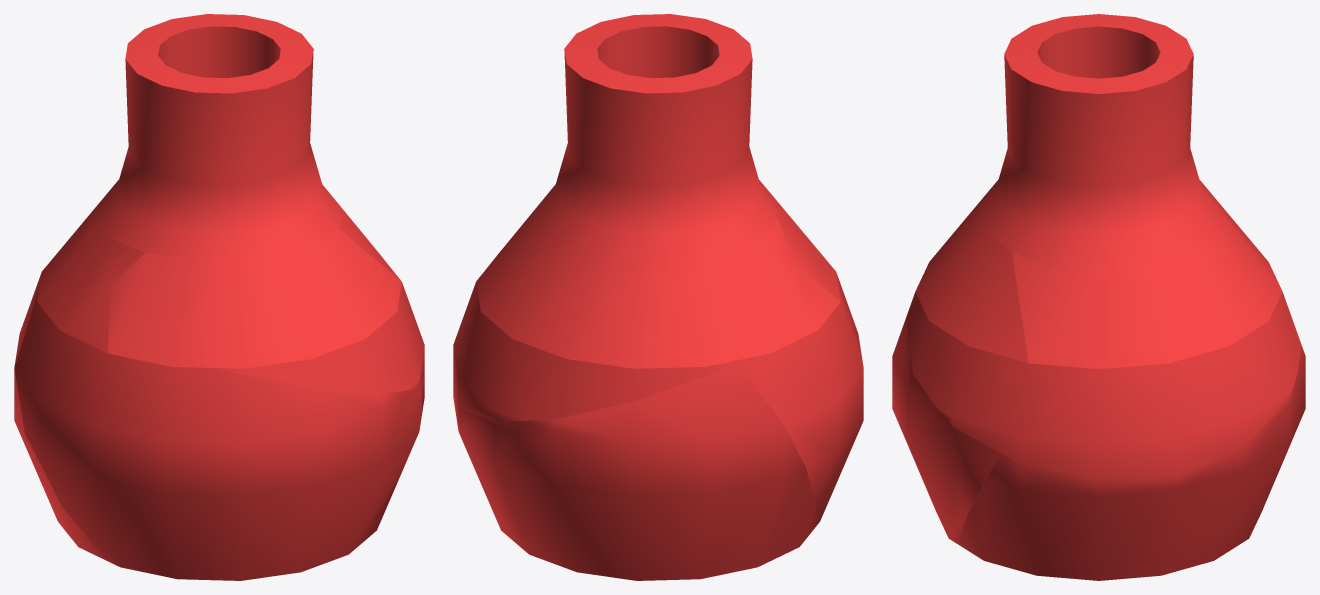
Rendered from DES_Vase.fbx.
3 views of the same model, side by side, from view 1: azimuth 30°, elevation 25°; view 2: azimuth 150°, elevation 25°; view 3: azimuth 270°, elevation 25° (orthographic).
Visible parts, largest first — view 1: VaseBrokenPiece_5, VaseBrokenPiece_1, VaseBrokenPiece_6, VaseBrokenPiece_4, VaseBrokenPiece_2, VaseBrokenPiece_3; view 2: VaseBrokenPiece_3, VaseBrokenPiece_1, VaseBrokenPiece_4, VaseBrokenPiece_2, VaseBrokenPiece_5, VaseBrokenPiece_6; view 3: VaseBrokenPiece_1, VaseBrokenPiece_2, VaseBrokenPiece_3, VaseBrokenPiece_4, VaseBrokenPiece_6, VaseBrokenPiece_5.
Boxes of the visible parts, x1,y1,x2,y2 form: VaseBrokenPiece_5: [14, 287, 422, 580]; VaseBrokenPiece_1: [95, 14, 344, 259]; VaseBrokenPiece_6: [107, 229, 401, 368]; VaseBrokenPiece_4: [37, 197, 400, 353]; VaseBrokenPiece_2: [39, 273, 424, 393]; VaseBrokenPiece_3: [14, 280, 424, 560]; VaseBrokenPiece_3: [453, 362, 815, 580]; VaseBrokenPiece_1: [529, 14, 777, 278]; VaseBrokenPiece_4: [476, 201, 840, 368]; VaseBrokenPiece_2: [453, 282, 738, 421]; VaseBrokenPiece_5: [735, 273, 863, 529]; VaseBrokenPiece_6: [774, 198, 840, 301]; VaseBrokenPiece_1: [979, 14, 1230, 275]; VaseBrokenPiece_2: [906, 292, 1301, 480]; VaseBrokenPiece_3: [957, 345, 1305, 580]; VaseBrokenPiece_4: [1012, 203, 1282, 369]; VaseBrokenPiece_6: [915, 191, 1028, 363]; VaseBrokenPiece_5: [892, 318, 1000, 543].
Bounding box in the file's own units: 32.1 × 39.41 × 32.1.
